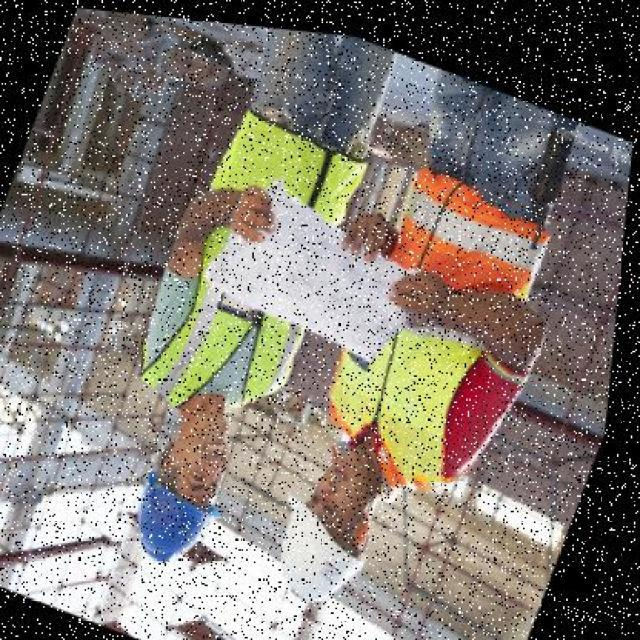helmet: (248, 460, 404, 620), (89, 440, 240, 574)
vest: (276, 123, 582, 505), (120, 85, 393, 439)
